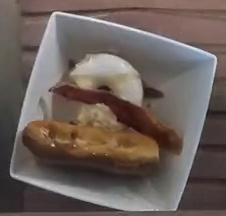bacon: (49, 83, 182, 153)
donut: (24, 120, 159, 176), (70, 53, 143, 106)
